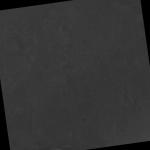colony: (18, 138, 87, 150)
